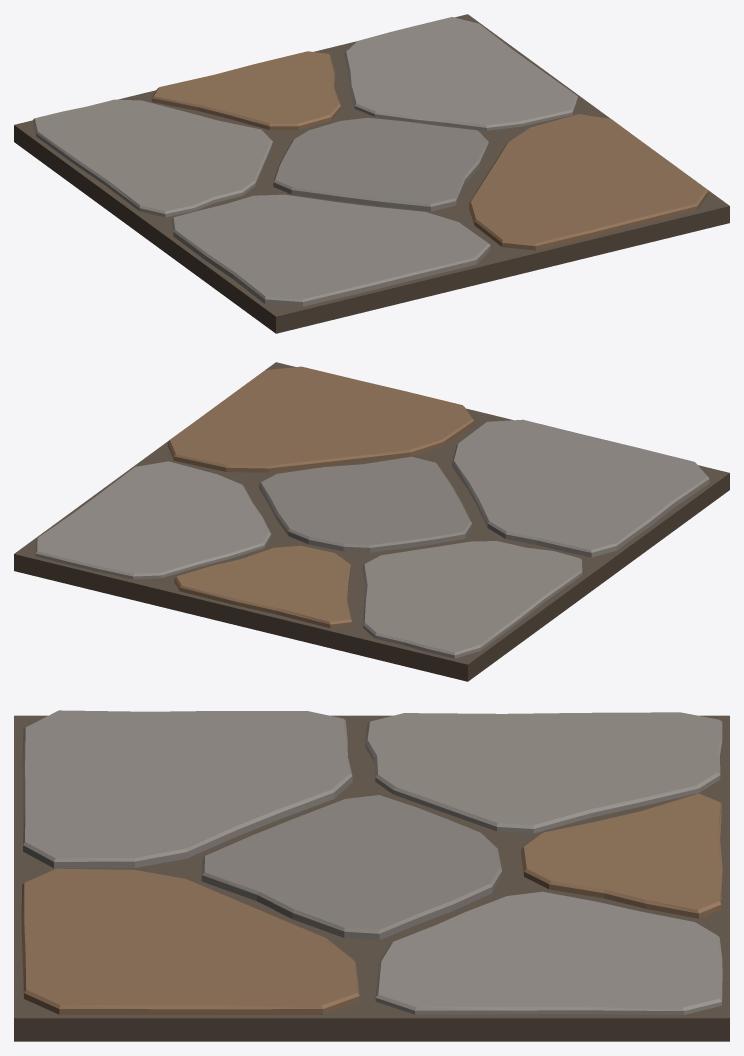
Rendered from stone-path-tile-f77e6e.glb.
The picture shows the model from 3 angles, top to bottom: view 1: azimuth 30°, elevation 25°; view 2: azimuth 150°, elevation 25°; view 3: azimuth 270°, elevation 25°; orthographic projection. The views are drawn at different scales.
Visible parts, largest first — view 1: stone-path-tile-mesh; view 2: stone-path-tile-mesh; view 3: stone-path-tile-mesh.
Part boxes in pixels (x1,y1,x2,y2): stone-path-tile-mesh: (14,14,729,333); stone-path-tile-mesh: (14,362,729,681); stone-path-tile-mesh: (14,710,729,1041).
Bounding box in the file's own units: 1 × 0.05 × 1.
